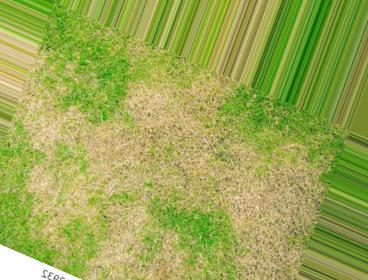patch: (216, 160, 300, 248), (68, 135, 141, 203), (140, 96, 198, 148), (28, 107, 63, 141)
